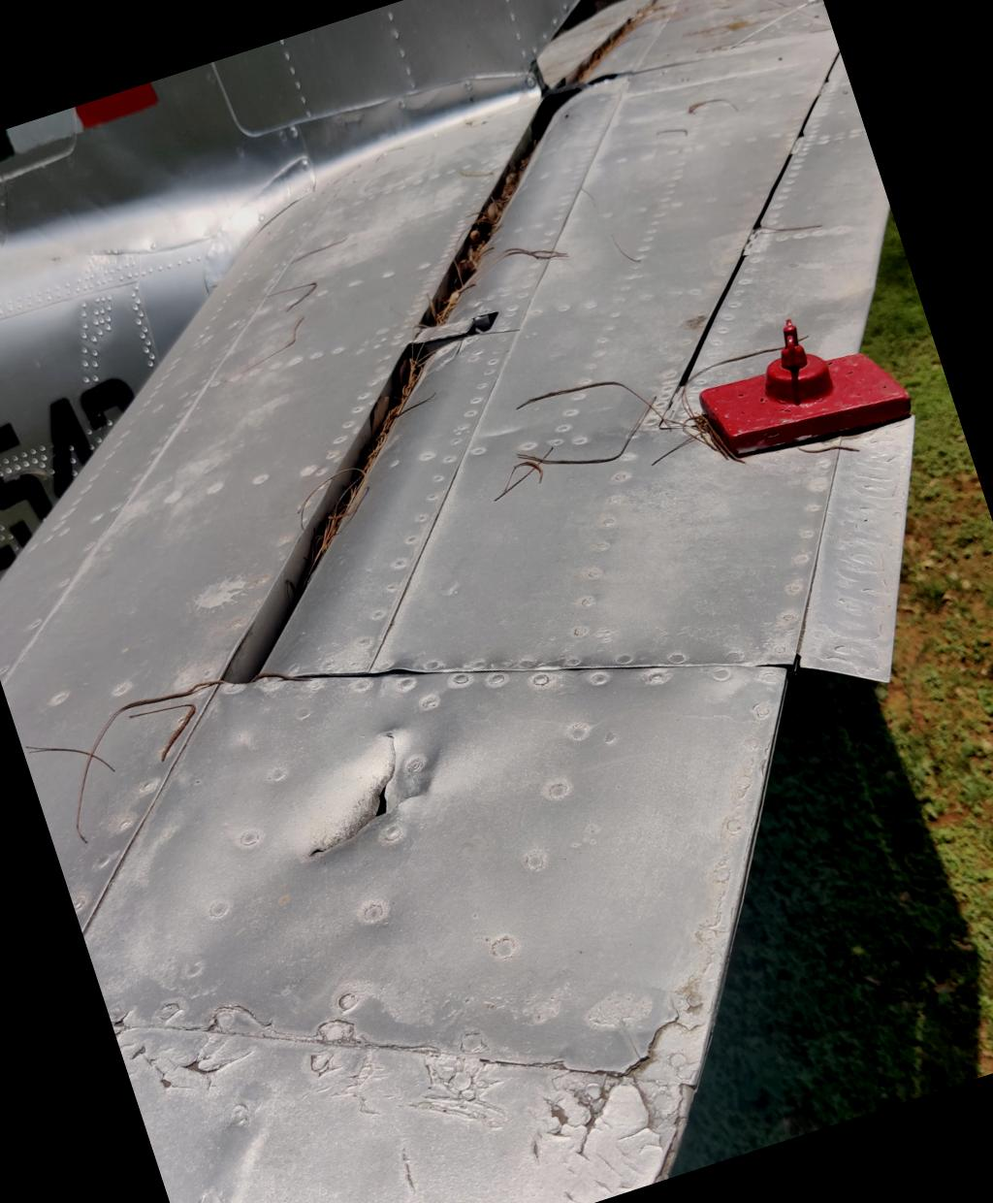crack: (258, 695, 469, 884)
